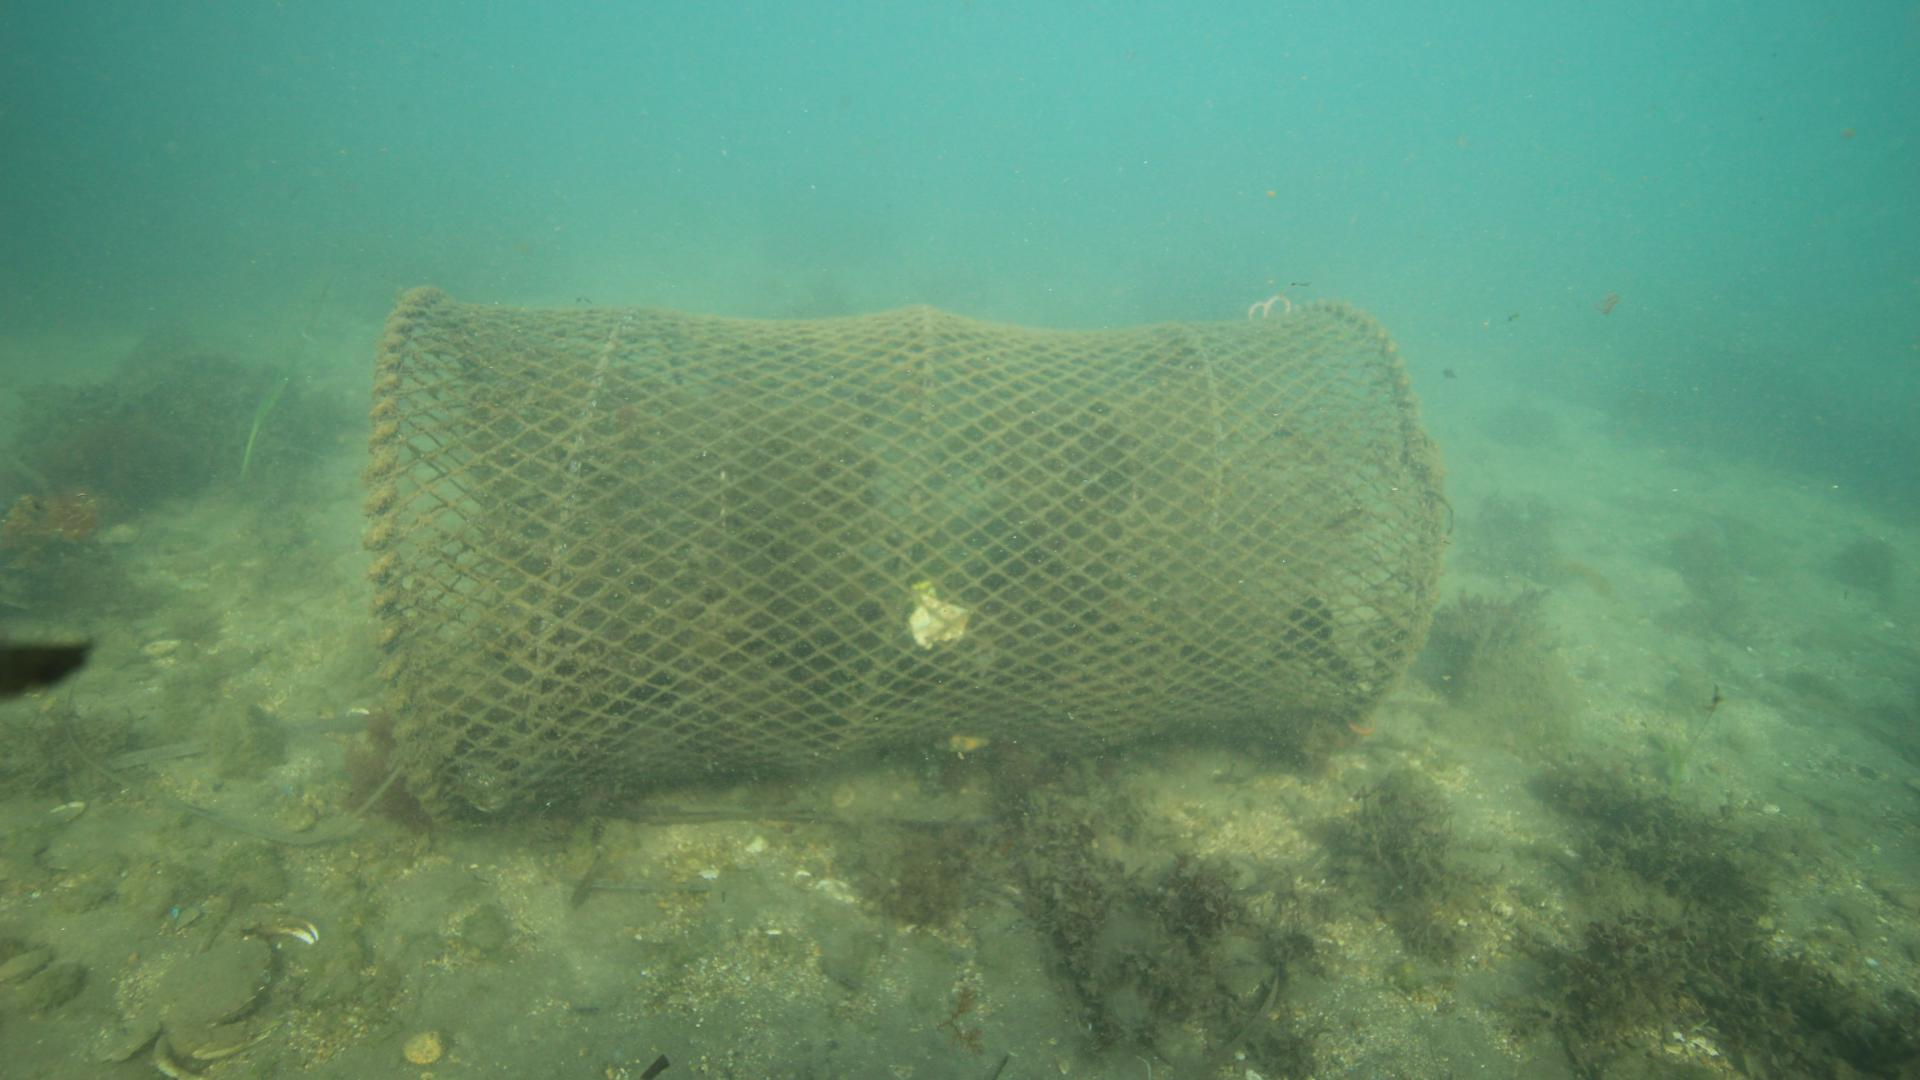spring fish trap: (357, 280, 1447, 832)
